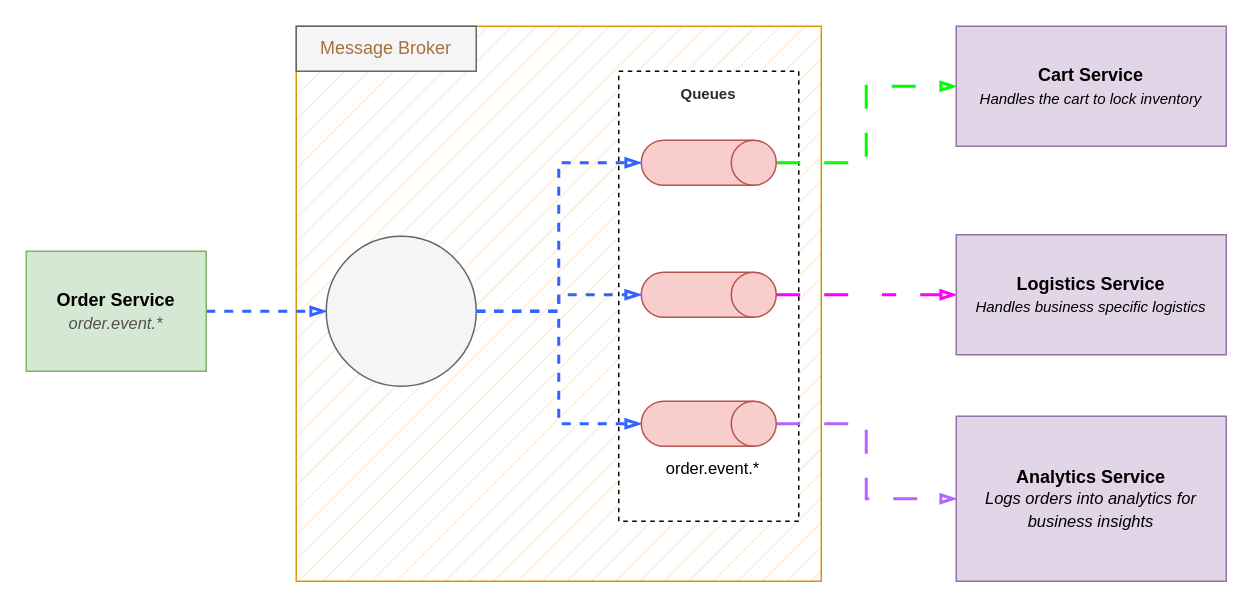
Image size: 1253x608. Some labels were removed from this diagram. Here are the shapes that lost their labels. From the top down, the centre of each, then its label:
the point at 708,162: order.event.created
the point at 400,310: Exchange order.event.*
the point at 708,294: order.event.paid
